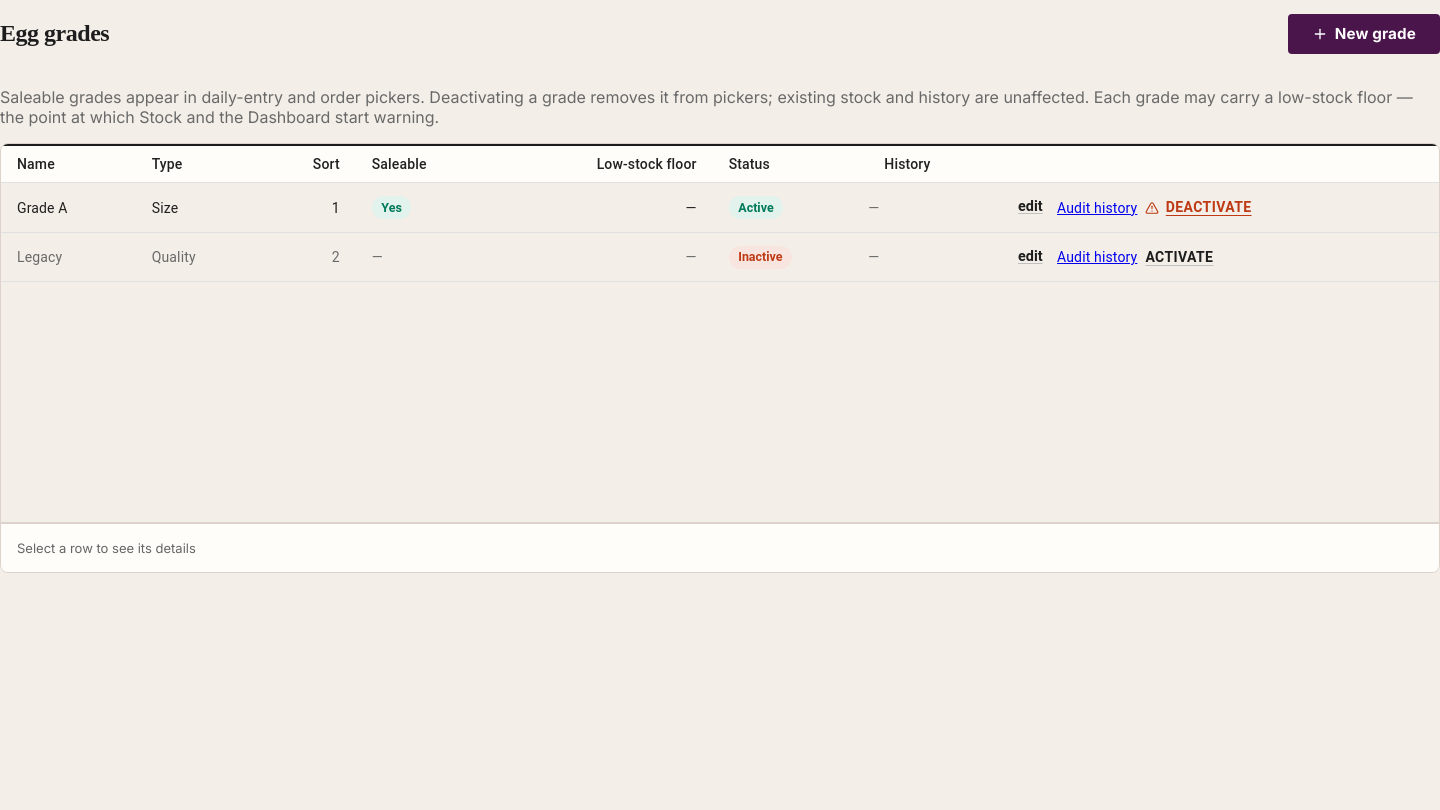
it: GradesPage admin actions › saves an edit with the edited name/sort/saleable
Expected: the text "Grade A" is shown, x1=1 y1=183 x2=136 y2=232
Click the button "edit" in the row of "Grade A" at (1030, 208), box x1=1012 y1=193 x2=1049 y2=223
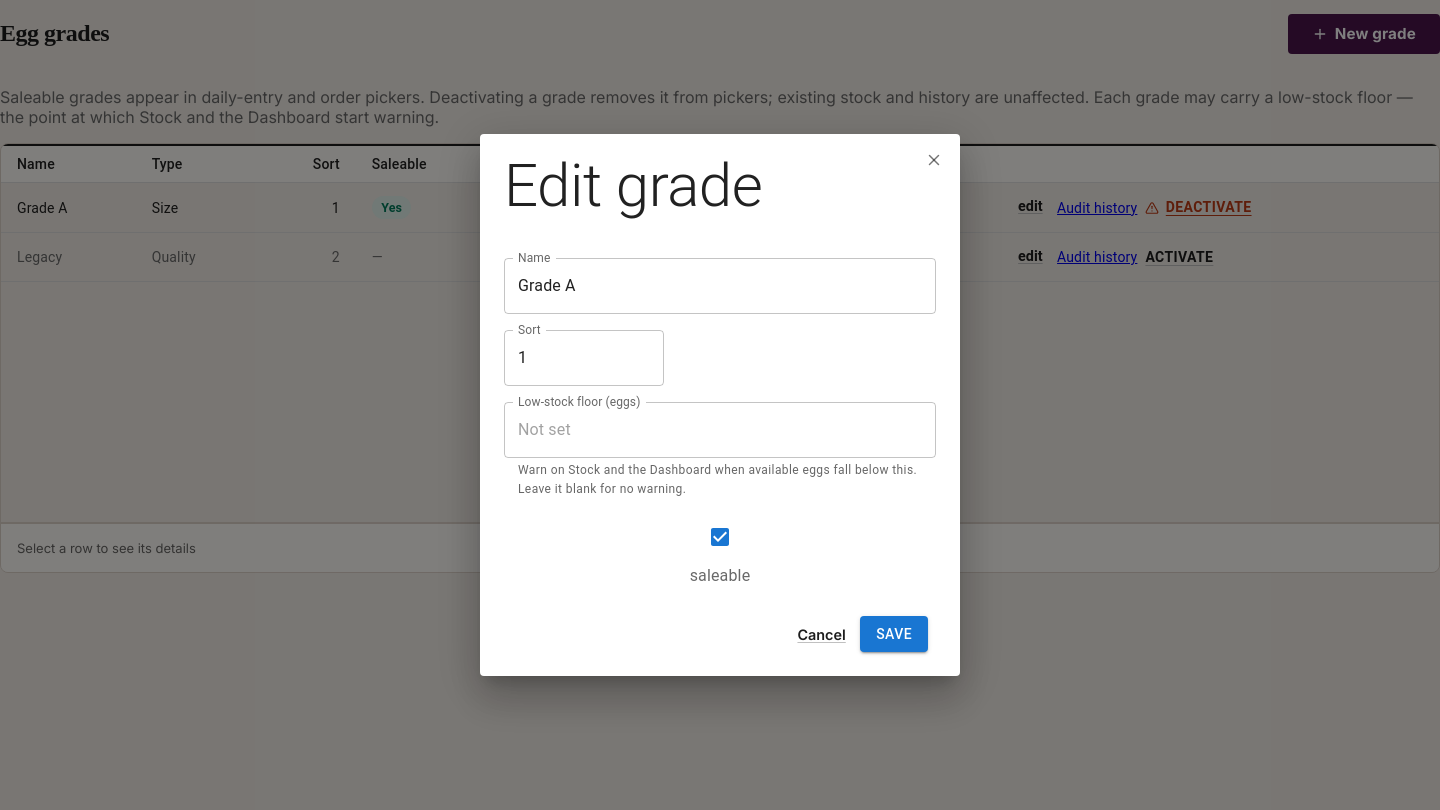
Now the field labelled "Name" holds "Grade A"
Replace the text in the field labelled "Name" with "Large" at (720, 286), box x1=504 y1=258 x2=936 y2=314
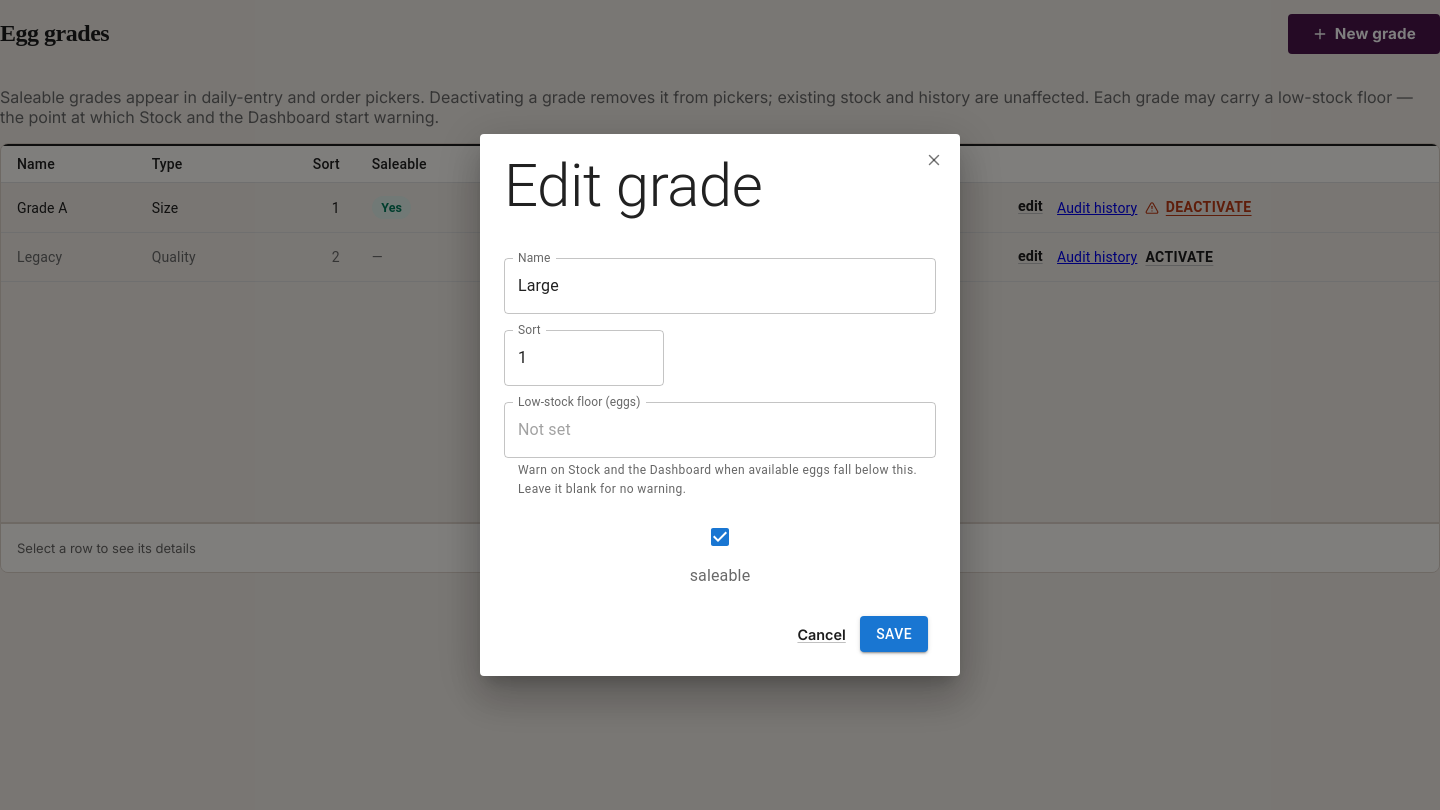
Replace the text in the number field labelled "Sort" with "5" at (584, 358), box x1=504 y1=330 x2=664 y2=386
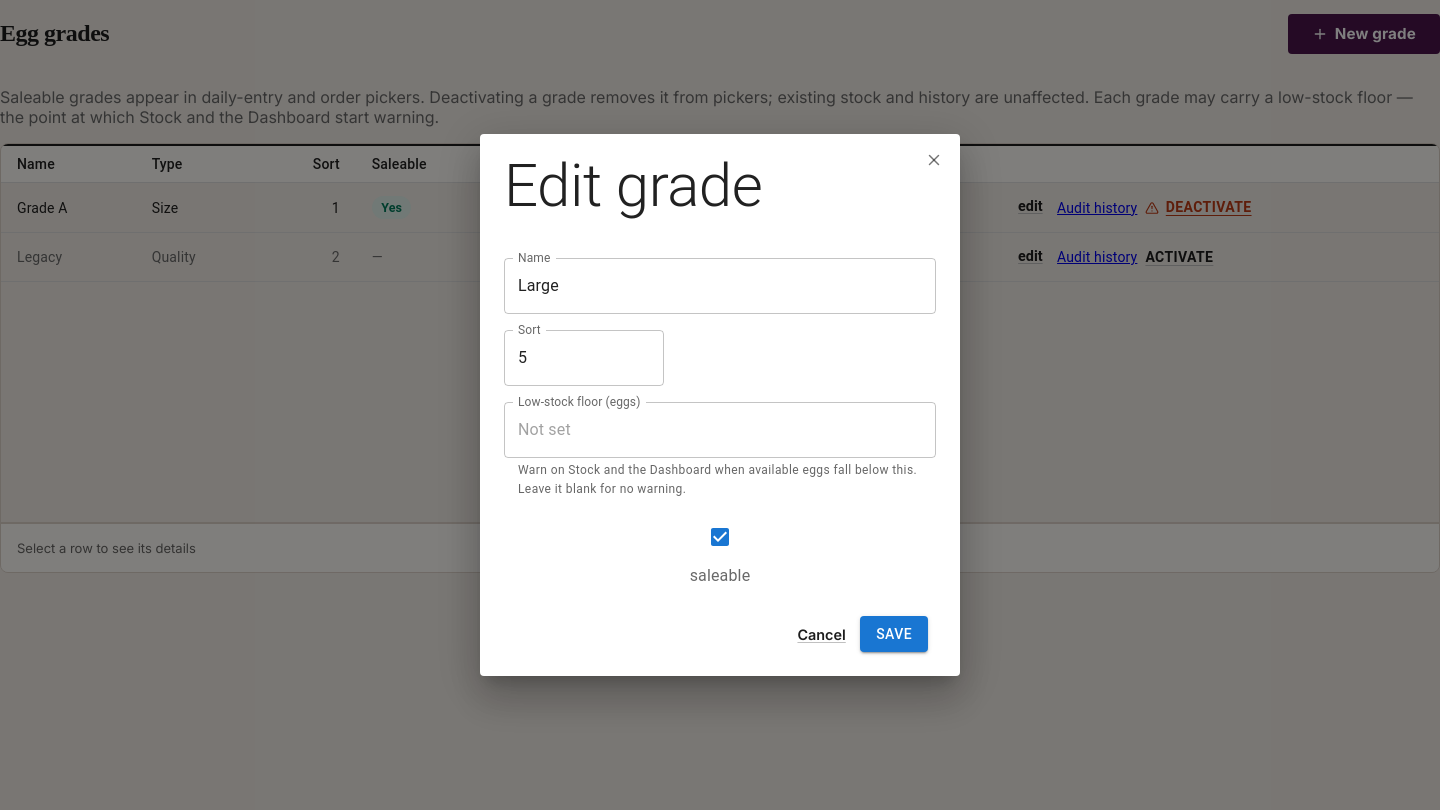
Click the checkbox labelled "saleable" at (720, 575), box x1=690 y1=525 x2=750 y2=585
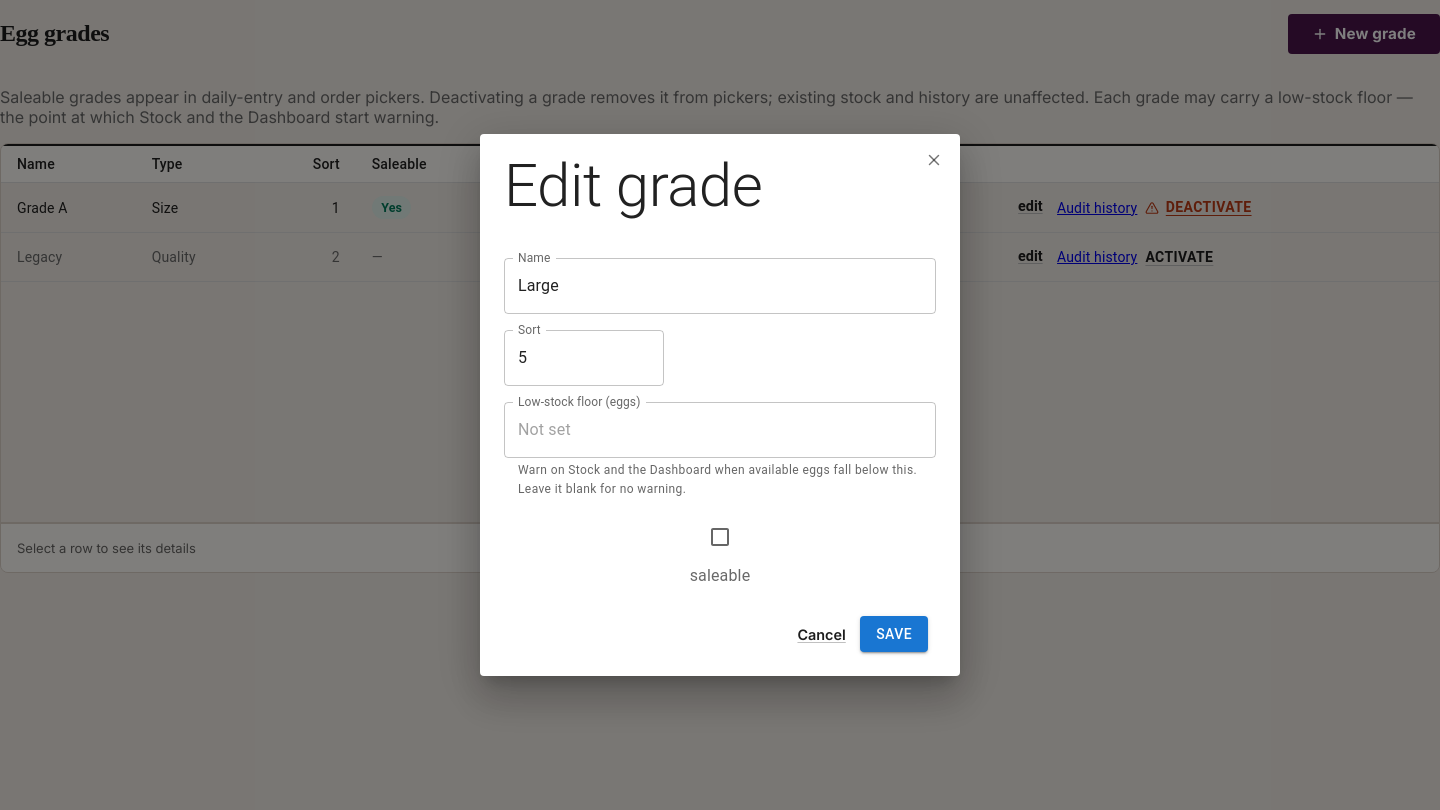
Click the button "Save" at (894, 634), box x1=860 y1=616 x2=928 y2=652
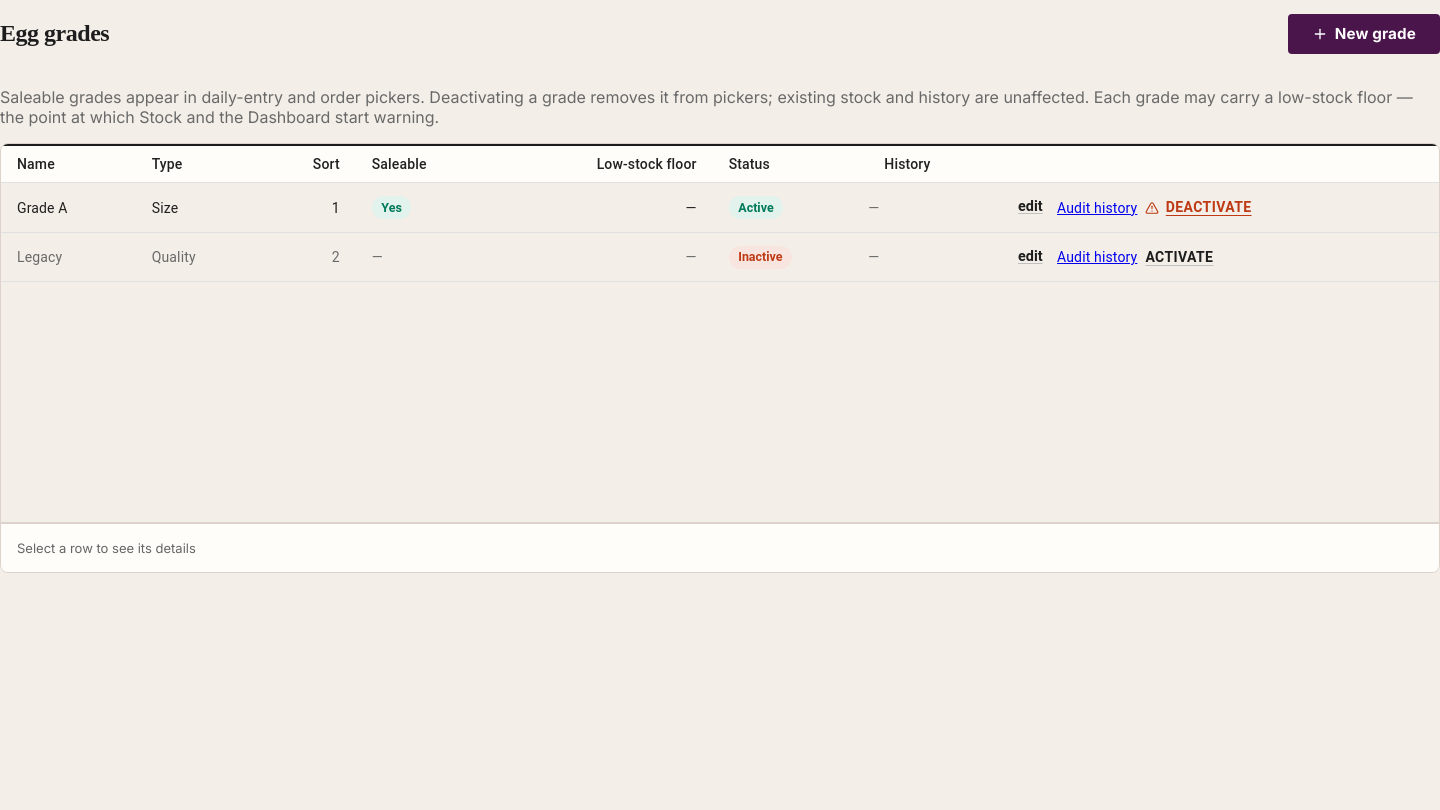
Now the dialog is gone
